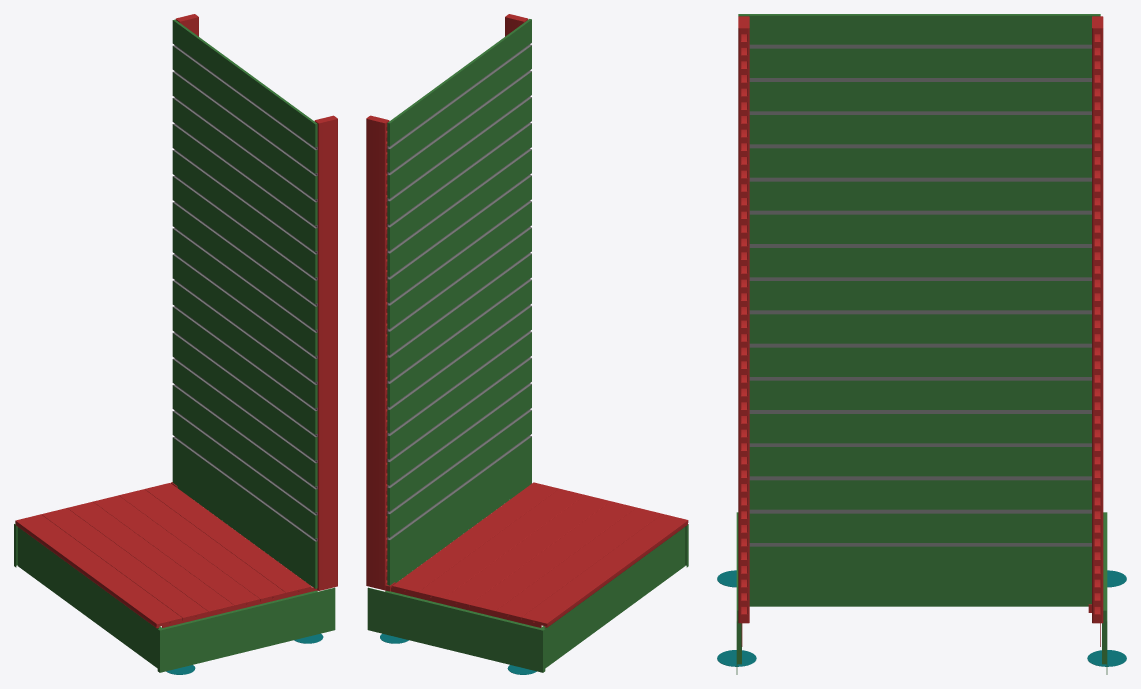
File: SM_Shelves_Base_05.fbx
3 views of the same model, side by side, from view 1: azimuth 30°, elevation 25°; view 2: azimuth 150°, elevation 25°; view 3: azimuth 270°, elevation 25° (orthographic). The views are drawn at different scales.
Parts seen in each view (by area): view 1: SM_Shelves_Base_05; view 2: SM_Shelves_Base_05; view 3: SM_Shelves_Base_05.
Part boxes in pixels (x1,y1,x2,y2): SM_Shelves_Base_05: (14,14,337,674); SM_Shelves_Base_05: (366,14,688,674); SM_Shelves_Base_05: (717,14,1126,674).
Bounding box in the file's own units: 73.77 × 200 × 114.
